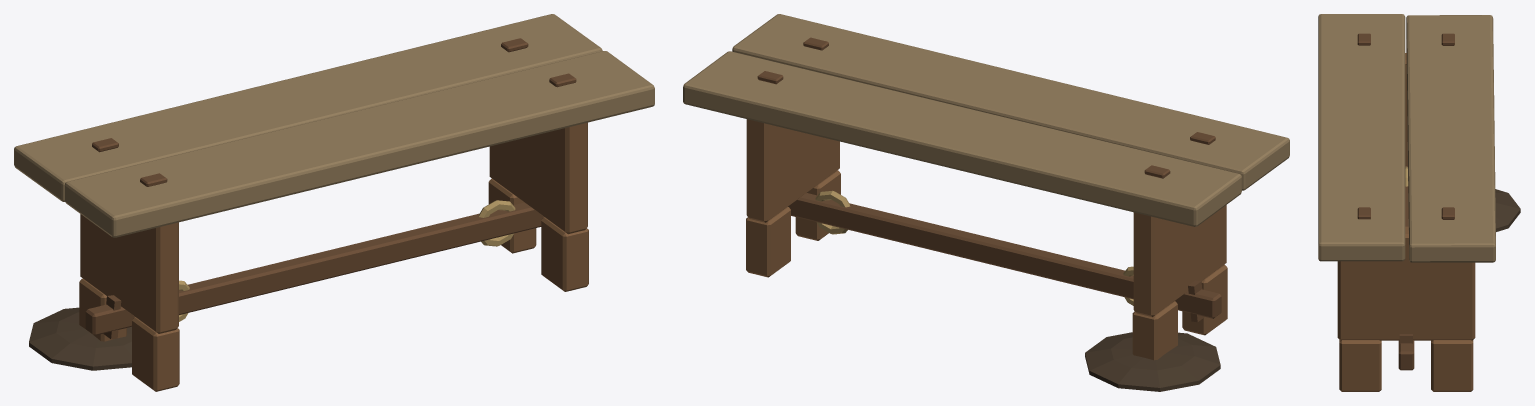
The model's file is SM_Bench_RusticPlank_01.fbx.
3 renders of one model, left to right at view 1: azimuth 30°, elevation 25°; view 2: azimuth 150°, elevation 25°; view 3: azimuth 270°, elevation 25°, orthographic. The views are drawn at different scales.
Parts seen in each view (by area): view 1: SM_Bench_RusticPlank_01_SeatPlank0, SM_Bench_RusticPlank_01_SeatPlank1, SM_Bench_RusticPlank_01_Stretcher, SM_Bench_RusticPlank_01_TrestleL, SM_Bench_RusticPlank_01_TrestleR, SM_Bench_RusticPlank_01_Mound, SM_Bench_RusticPlank_01_TrestleFootLF, SM_Bench_RusticPlank_01_TrestleFootRF, SM_Bench_RusticPlank_01_TrestleFootRB, SM_Bench_RusticPlank_01_TrestleFootLB, SM_Bench_RusticPlank_01_Rope1; view 2: SM_Bench_RusticPlank_01_SeatPlank1, SM_Bench_RusticPlank_01_SeatPlank0, SM_Bench_RusticPlank_01_Stretcher, SM_Bench_RusticPlank_01_TrestleL, SM_Bench_RusticPlank_01_TrestleR, SM_Bench_RusticPlank_01_Mound, SM_Bench_RusticPlank_01_TrestleFootRB, SM_Bench_RusticPlank_01_TrestleFootLB, SM_Bench_RusticPlank_01_TrestleFootLF, SM_Bench_RusticPlank_01_TrestleFootRF, SM_Bench_RusticPlank_01_Rope1; view 3: SM_Bench_RusticPlank_01_SeatPlank0, SM_Bench_RusticPlank_01_SeatPlank1, SM_Bench_RusticPlank_01_TrestleR, SM_Bench_RusticPlank_01_TrestleFootRB, SM_Bench_RusticPlank_01_TrestleFootRF, SM_Bench_RusticPlank_01_Mound, SM_Bench_RusticPlank_01_Stretcher, SM_Bench_RusticPlank_01_TrestleL.
Part boxes in pixels (<box>): SM_Bench_RusticPlank_01_SeatPlank0: <box>64,51,654,237</box>; SM_Bench_RusticPlank_01_SeatPlank1: <box>14,14,602,201</box>; SM_Bench_RusticPlank_01_Stretcher: <box>85,202,544,335</box>; SM_Bench_RusticPlank_01_TrestleL: <box>80,214,178,333</box>; SM_Bench_RusticPlank_01_TrestleR: <box>489,122,587,234</box>; SM_Bench_RusticPlank_01_Mound: <box>29,307,131,370</box>; SM_Bench_RusticPlank_01_TrestleFootLF: <box>132,317,179,391</box>; SM_Bench_RusticPlank_01_TrestleFootRF: <box>541,217,588,291</box>; SM_Bench_RusticPlank_01_TrestleFootRB: <box>488,178,536,253</box>; SM_Bench_RusticPlank_01_TrestleFootLB: <box>79,278,126,341</box>; SM_Bench_RusticPlank_01_Rope1: <box>478,200,515,246</box>; SM_Bench_RusticPlank_01_SeatPlank1: <box>683,51,1241,226</box>; SM_Bench_RusticPlank_01_SeatPlank0: <box>732,14,1289,190</box>; SM_Bench_RusticPlank_01_Stretcher: <box>788,193,1221,318</box>; SM_Bench_RusticPlank_01_TrestleL: <box>1133,205,1226,317</box>; SM_Bench_RusticPlank_01_TrestleR: <box>746,119,839,222</box>; SM_Bench_RusticPlank_01_Mound: <box>1085,332,1220,391</box>; SM_Bench_RusticPlank_01_TrestleFootRB: <box>746,207,790,277</box>; SM_Bench_RusticPlank_01_TrestleFootLB: <box>1132,301,1177,360</box>; SM_Bench_RusticPlank_01_TrestleFootLF: <box>1182,264,1227,335</box>; SM_Bench_RusticPlank_01_TrestleFootRF: <box>795,170,840,240</box>; SM_Bench_RusticPlank_01_Rope1: <box>815,190,850,234</box>; SM_Bench_RusticPlank_01_SeatPlank0: <box>1318,14,1405,261</box>; SM_Bench_RusticPlank_01_SeatPlank1: <box>1406,15,1495,262</box>; SM_Bench_RusticPlank_01_TrestleR: <box>1337,226,1475,340</box>; SM_Bench_RusticPlank_01_TrestleFootRB: <box>1431,340,1473,391</box>; SM_Bench_RusticPlank_01_TrestleFootRF: <box>1339,340,1381,391</box>; SM_Bench_RusticPlank_01_Mound: <box>1495,189,1520,231</box>; SM_Bench_RusticPlank_01_Stretcher: <box>1398,165,1414,370</box>; SM_Bench_RusticPlank_01_TrestleL: <box>1405,53,1407,165</box>.
Bounding box in the file's own units: 1.3 × 0.4625 × 0.4822.
